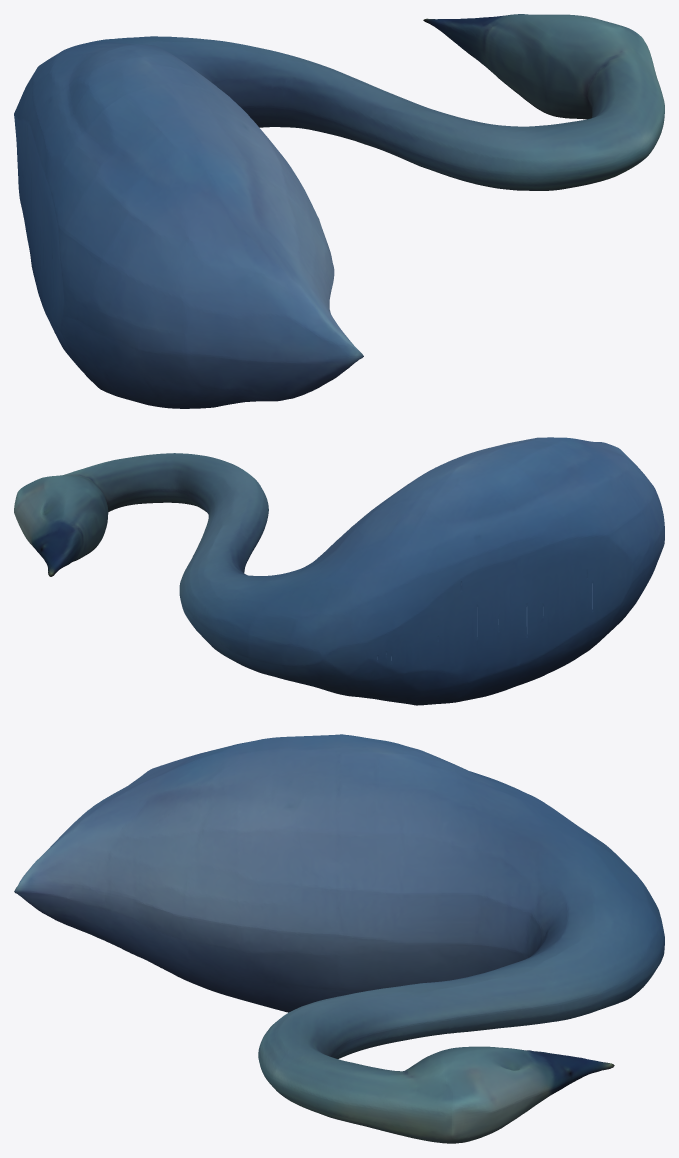
The model's file is obj02_ours.glb.
The picture shows the model from 3 angles, top to bottom: view 1: azimuth 30°, elevation 25°; view 2: azimuth 150°, elevation 25°; view 3: azimuth 270°, elevation 25°; orthographic projection. The views are drawn at different scales.
Visible parts, largest first — view 1: n1; view 2: n1; view 3: n1.
Boxes of the visible parts, box(x1,y1,x2,y2) form: n1: box(14, 14, 664, 408); n1: box(14, 437, 664, 705); n1: box(14, 734, 664, 1143).
Size of the model in its own units: 0.8918 by 0.3517 by 0.8022.
